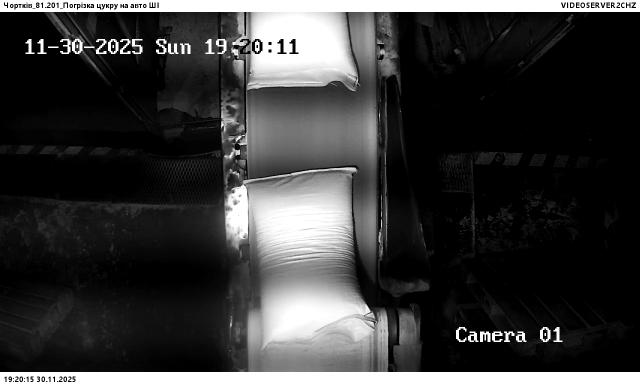bag: (244, 167, 378, 351), (248, 13, 359, 91)
